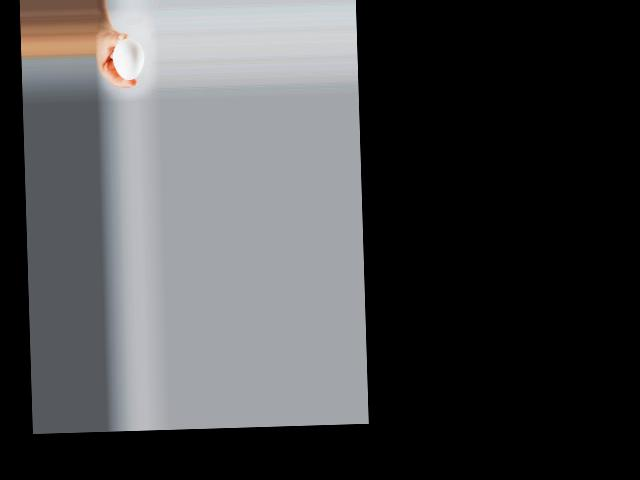egg: (113, 38, 144, 81)
